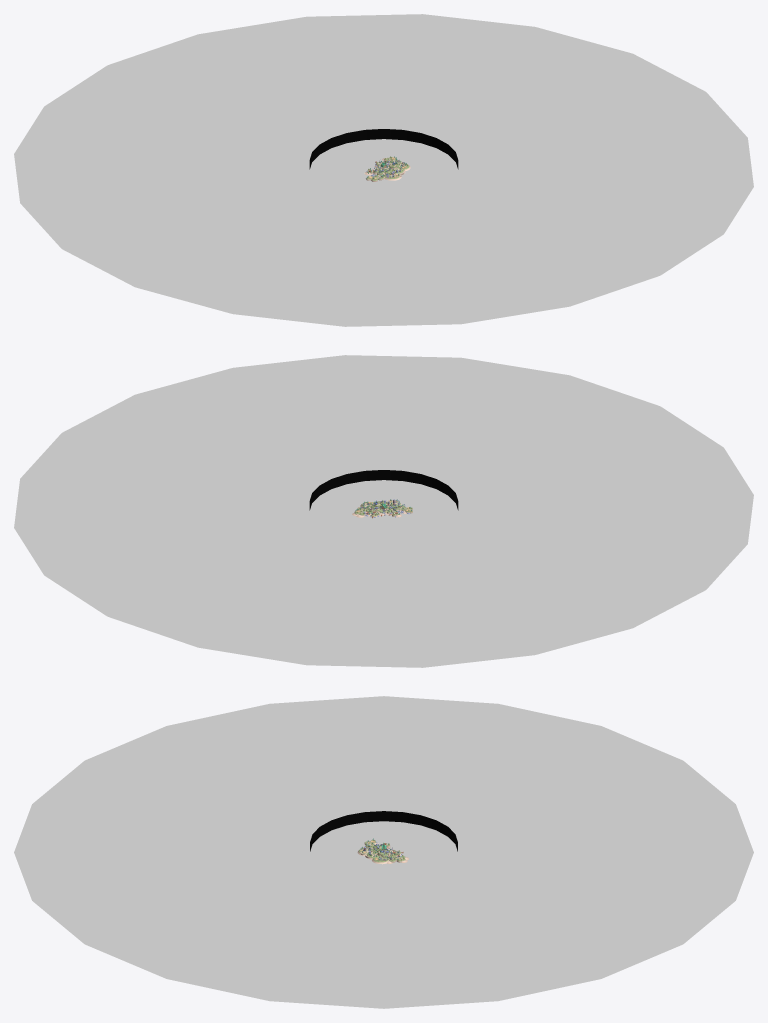
The model's file is Diorama.glb.
3 views of the same model, one above another, from view 1: azimuth 30°, elevation 25°; view 2: azimuth 150°, elevation 25°; view 3: azimuth 270°, elevation 25° (orthographic).
Parts seen in each view (by area): view 1: floor, skyline, model; view 2: floor, skyline, model; view 3: floor, skyline, model.
Boxes of the visible parts, bbox=[...] form: floor: bbox=[14, 14, 753, 326]; skyline: bbox=[309, 129, 458, 169]; model: bbox=[364, 157, 410, 181]; floor: bbox=[14, 355, 753, 667]; skyline: bbox=[309, 470, 458, 510]; model: bbox=[352, 499, 412, 518]; floor: bbox=[14, 696, 753, 1008]; skyline: bbox=[310, 811, 457, 851]; model: bbox=[357, 840, 408, 864].
Size of the model in its own units: 200 by 9.65 by 200.
8 materials, 5 textured.
